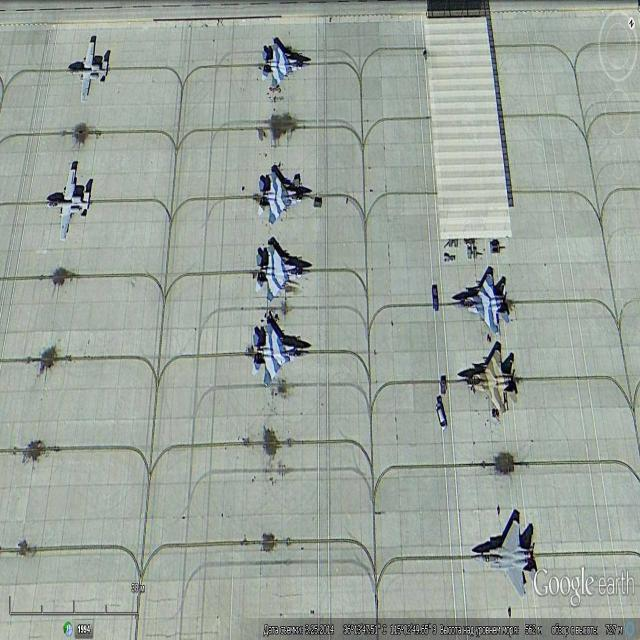MIL_Plane: (471, 520, 539, 600), (457, 348, 519, 414), (251, 322, 309, 387), (452, 272, 510, 336), (255, 245, 311, 302), (45, 169, 89, 241), (257, 172, 311, 226), (64, 41, 108, 103), (262, 43, 310, 89)
